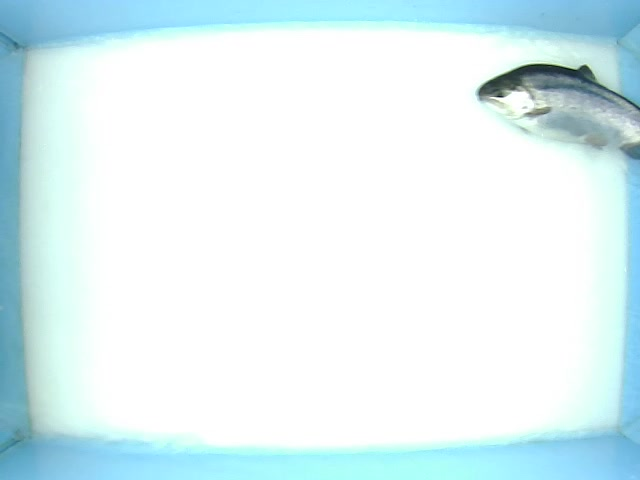fish: (412, 53, 640, 175)
